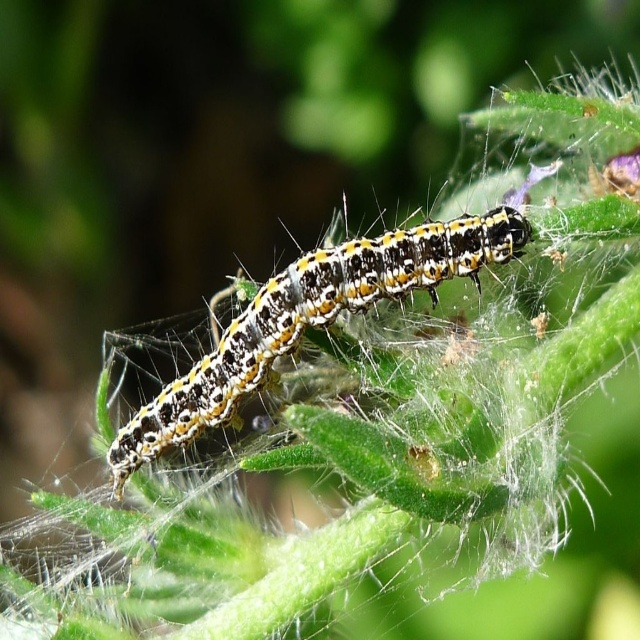Caterpillar: (107, 183, 527, 520)
